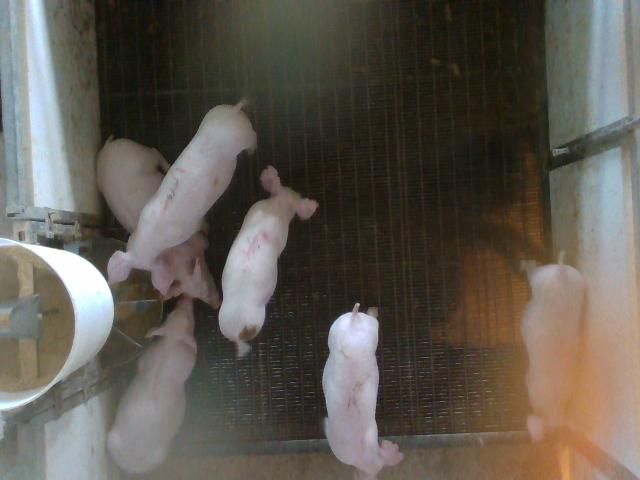pig-3: (109, 104, 256, 294)
pig-4: (521, 259, 585, 441)
pig-5: (219, 166, 319, 356)
